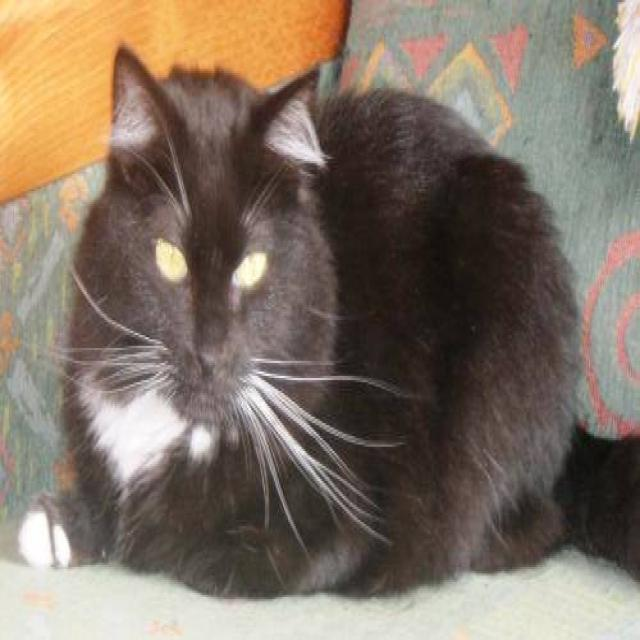cat: (17, 41, 638, 601)
